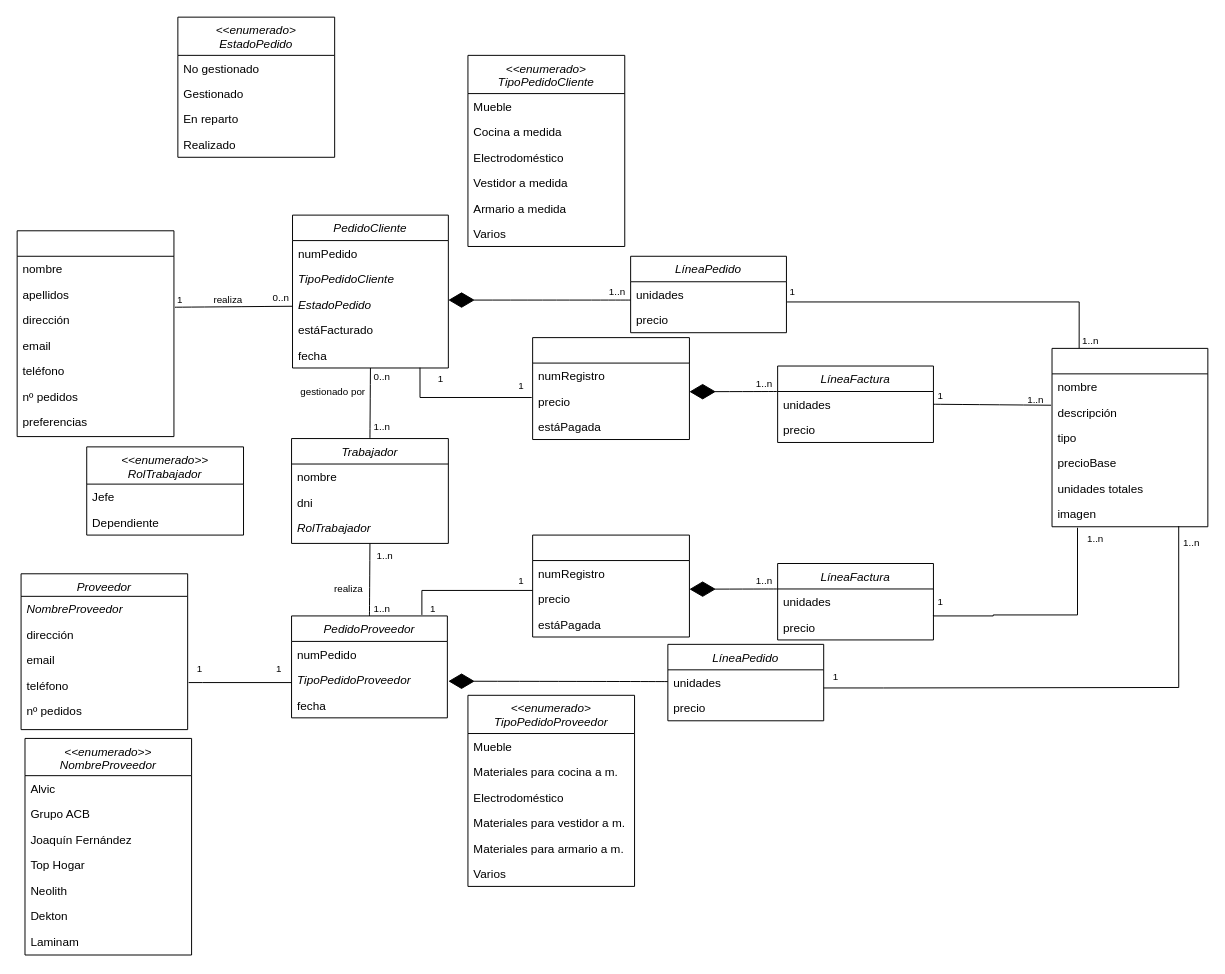
Image size: 1225x974. Some labels were removed from this diagram. Here are the shapes that lost their labels. From the top down, the box of each, then its label:
(16, 230, 174, 437): Cliente
(532, 337, 689, 440): FacturaCliente
(1051, 347, 1208, 527): Producto
(532, 534, 689, 637): FacturaProveedor
